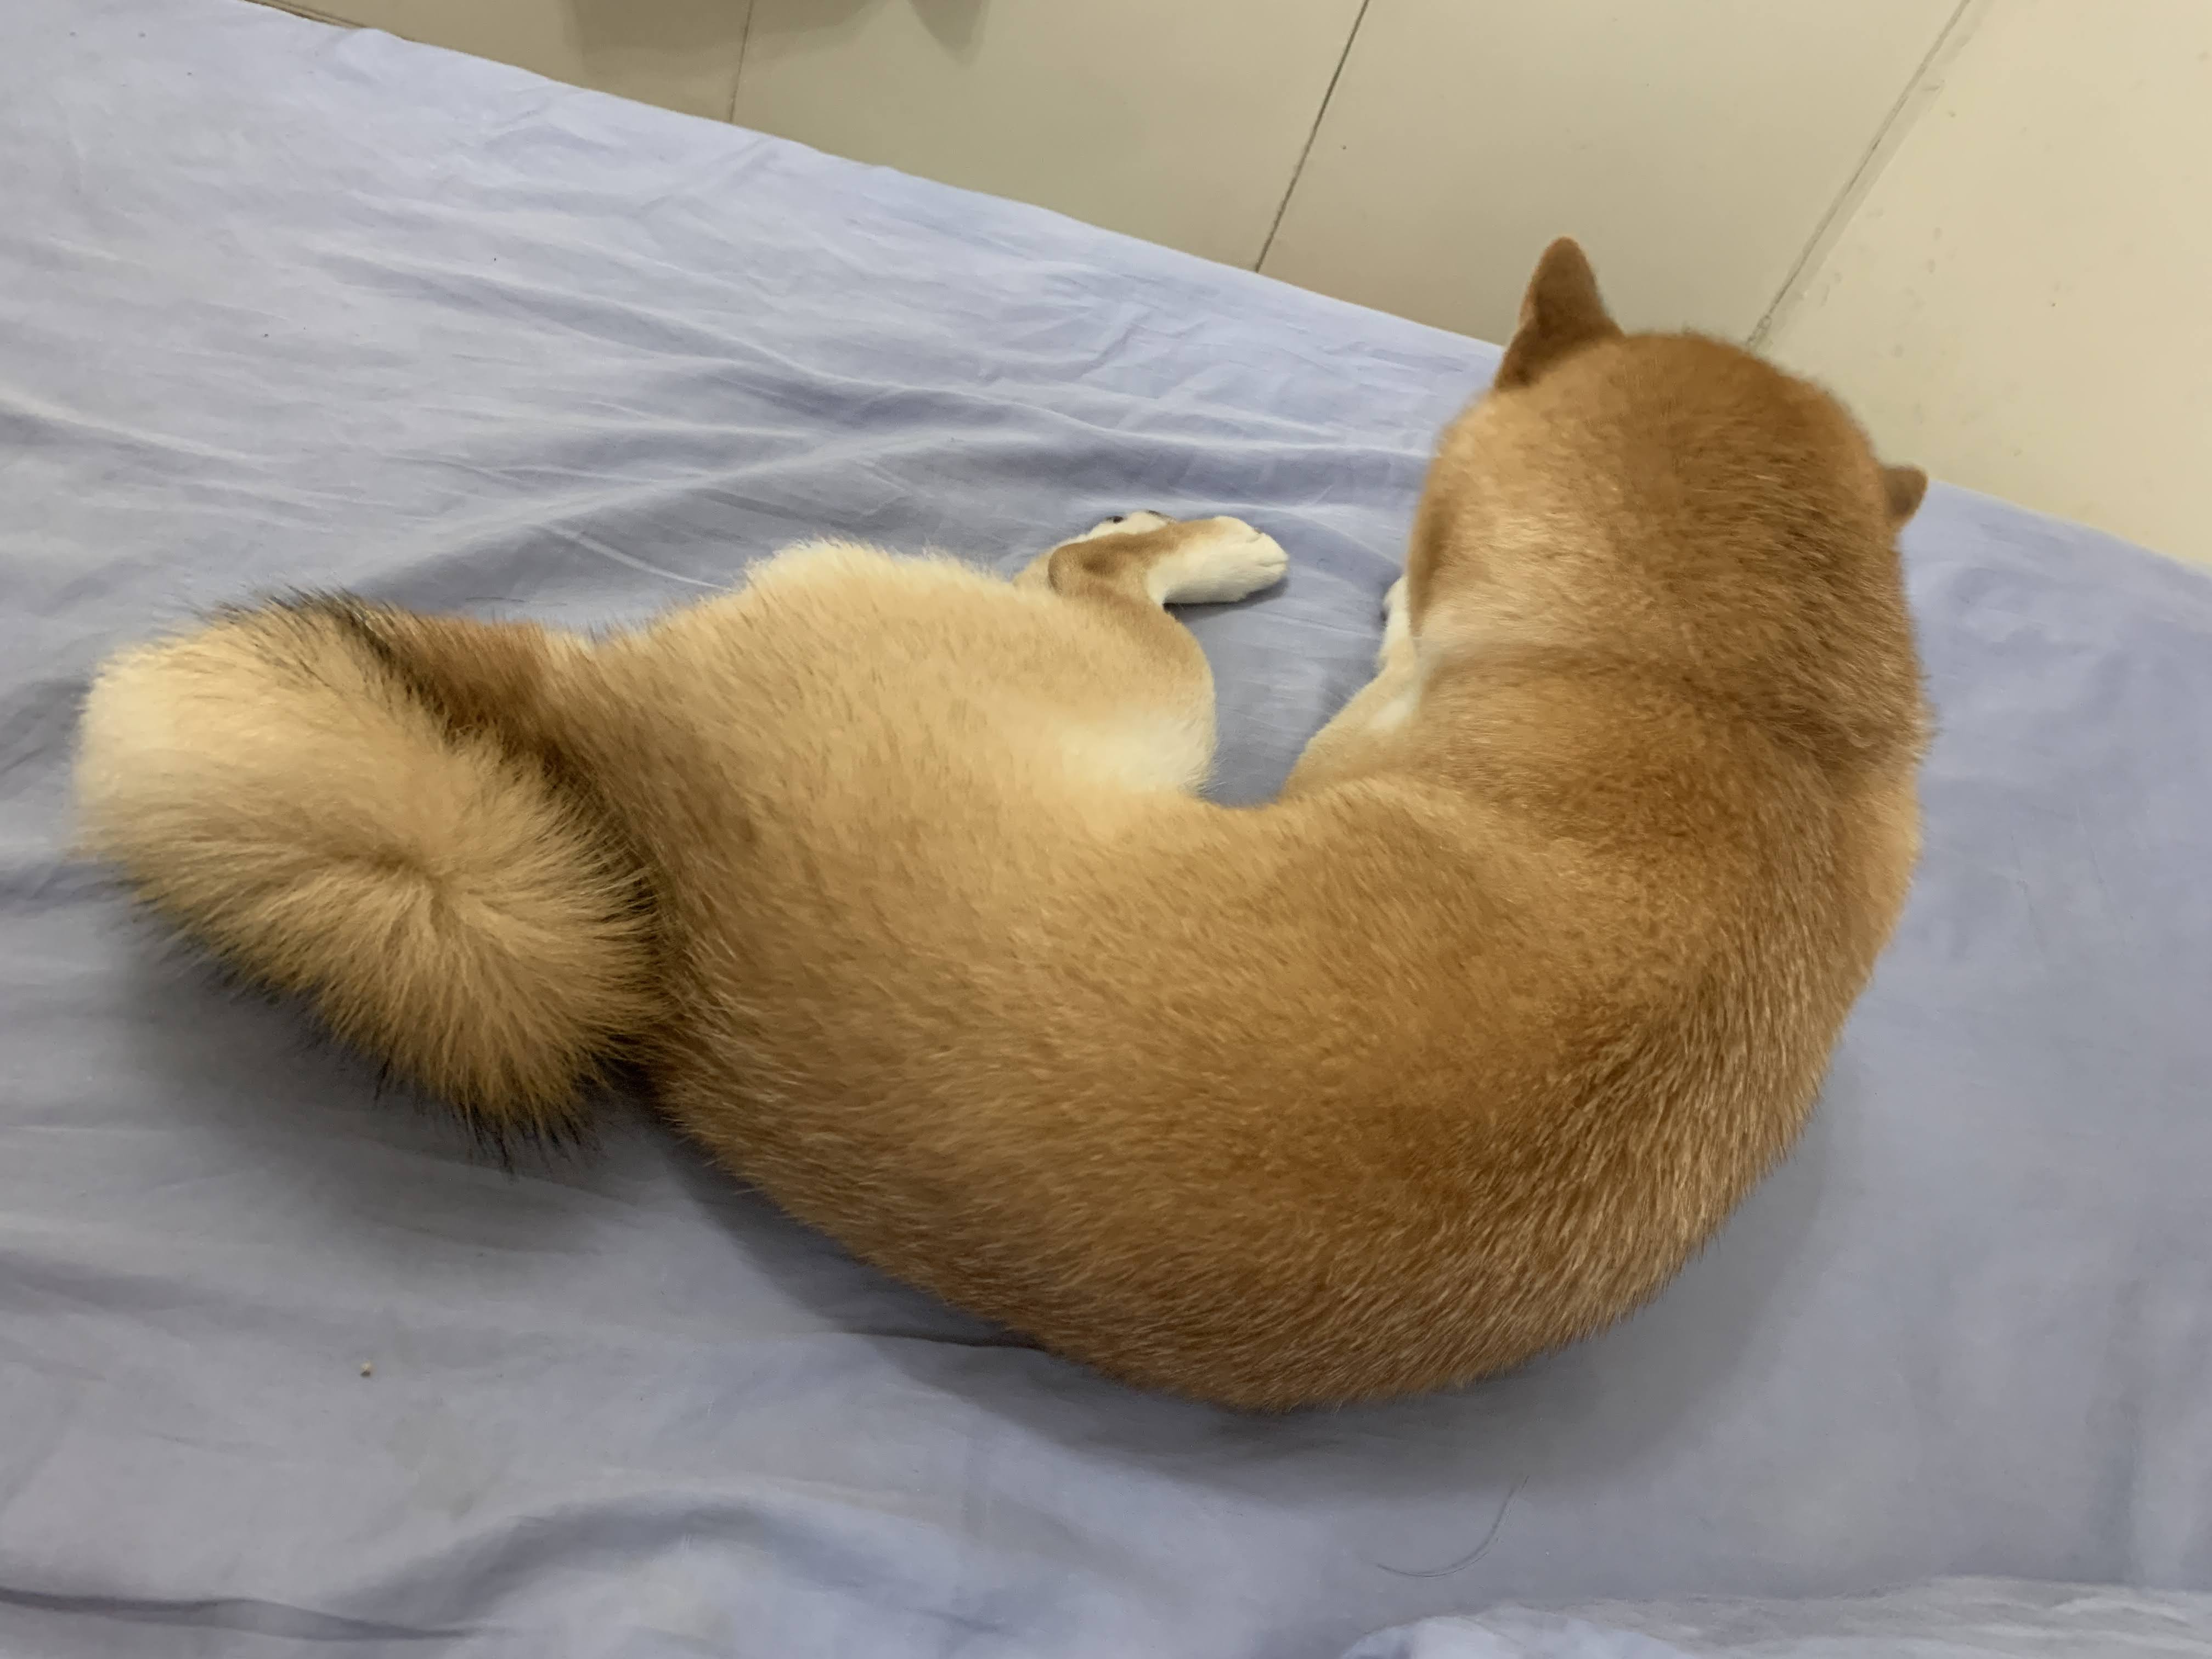Get down: (77, 186, 1963, 1438)
